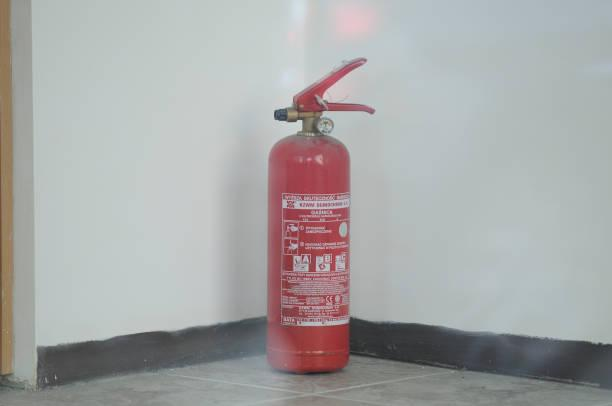floor-kept: (228, 51, 405, 382)
